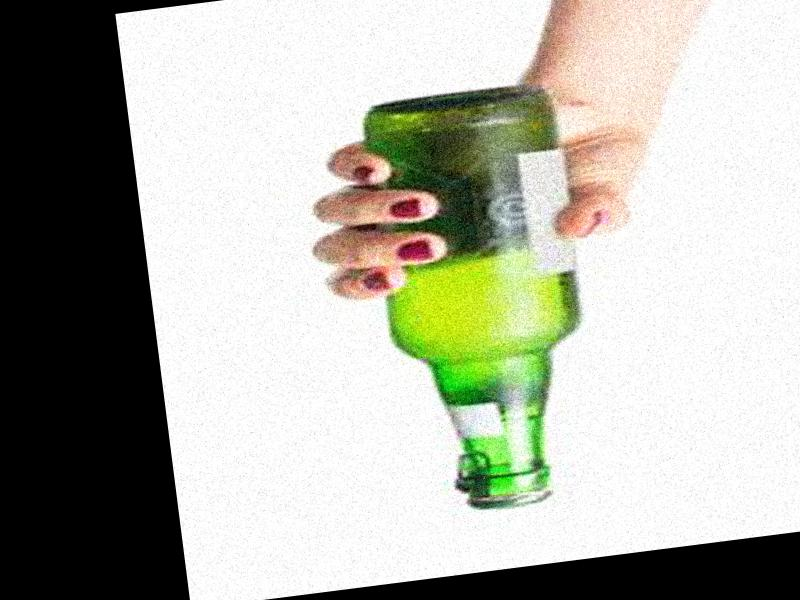Beer: (361, 79, 611, 522)
